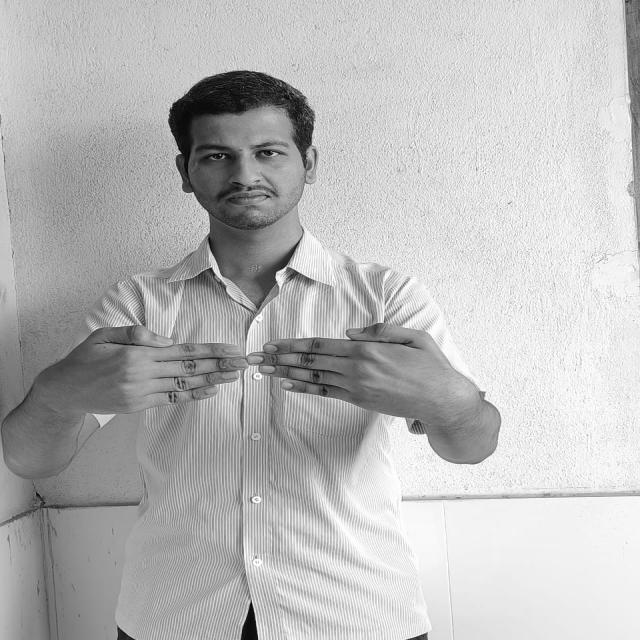Night: (40, 323, 457, 421)
